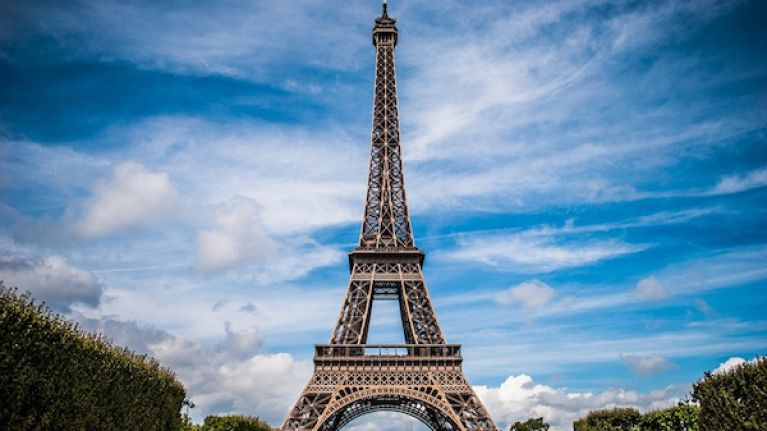eiffel tower: (289, 1, 501, 424)
